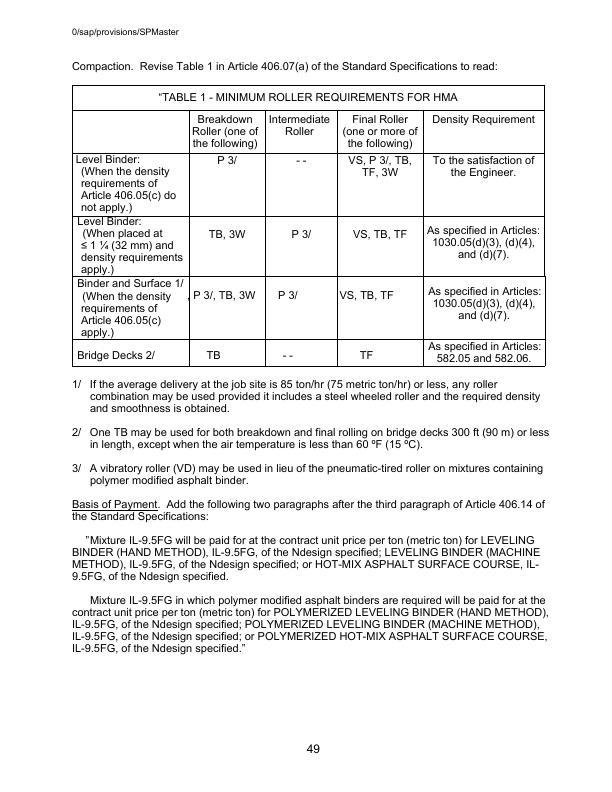table: (67, 81, 554, 369)
text: (68, 593, 554, 657), (66, 532, 544, 584), (72, 379, 543, 414), (70, 426, 554, 456), (67, 498, 553, 526), (69, 462, 554, 488), (69, 58, 504, 75)
